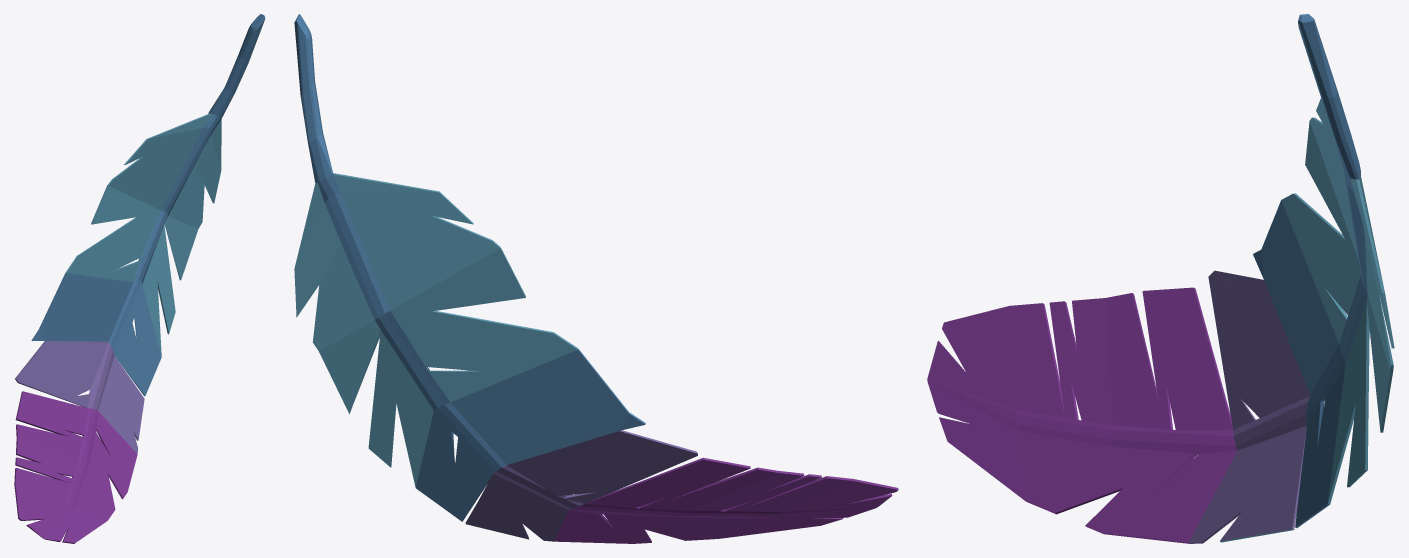
File: Feather.fbx
3 views of the same model, side by side, from view 1: azimuth 30°, elevation 25°; view 2: azimuth 150°, elevation 25°; view 3: azimuth 270°, elevation 25° (orthographic). The views are drawn at different scales.
Visible parts, largest first — view 1: feather; view 2: feather; view 3: feather.
Boxes of the visible parts, left/top/right/bottom form: feather: left=14, top=14, right=265, bottom=543; feather: left=294, top=14, right=898, bottom=543; feather: left=927, top=14, right=1394, bottom=543.
Bounding box in the file's own units: 0.3969 × 0.426 × 0.2618.
1 material, 1 textured.
